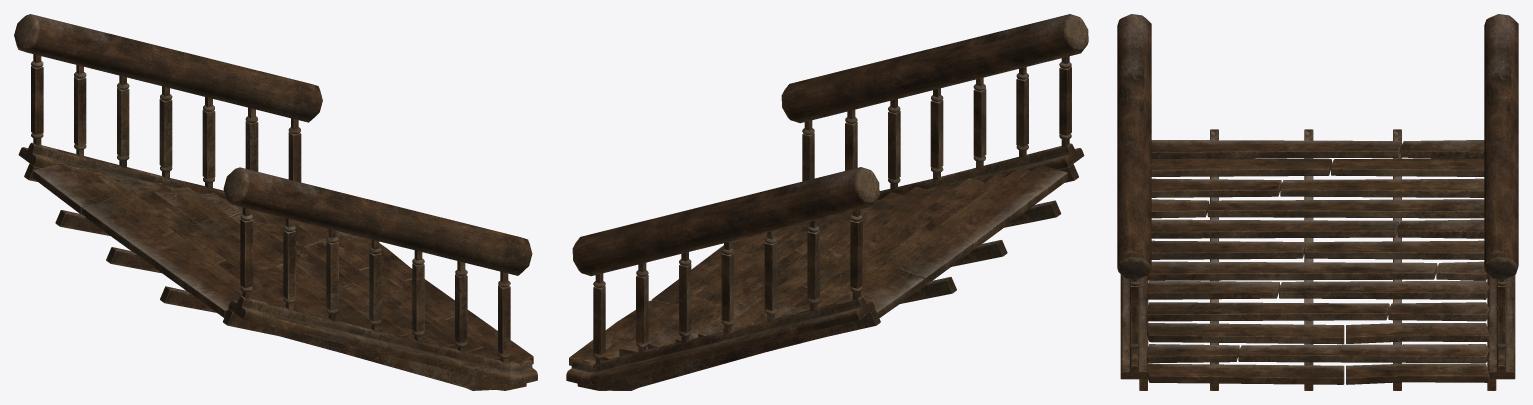
Rendered from SM_Stairs_01.fbx.
The picture shows the model from 3 angles, left to right: view 1: azimuth 30°, elevation 25°; view 2: azimuth 150°, elevation 25°; view 3: azimuth 270°, elevation 25°; orthographic projection. The views are drawn at different scales.
Visible parts, largest first — view 1: SM_Stairs_01_LOD0; view 2: SM_Stairs_01_LOD0; view 3: SM_Stairs_01_LOD0.
Part boxes in pixels (box(x1,y1,x2,y2)): SM_Stairs_01_LOD0: box(14, 14, 537, 390); SM_Stairs_01_LOD0: box(566, 14, 1088, 390); SM_Stairs_01_LOD0: box(1117, 14, 1518, 390).
Size of the model in its own units: 198 by 164 by 235.
1 material, 1 textured.
